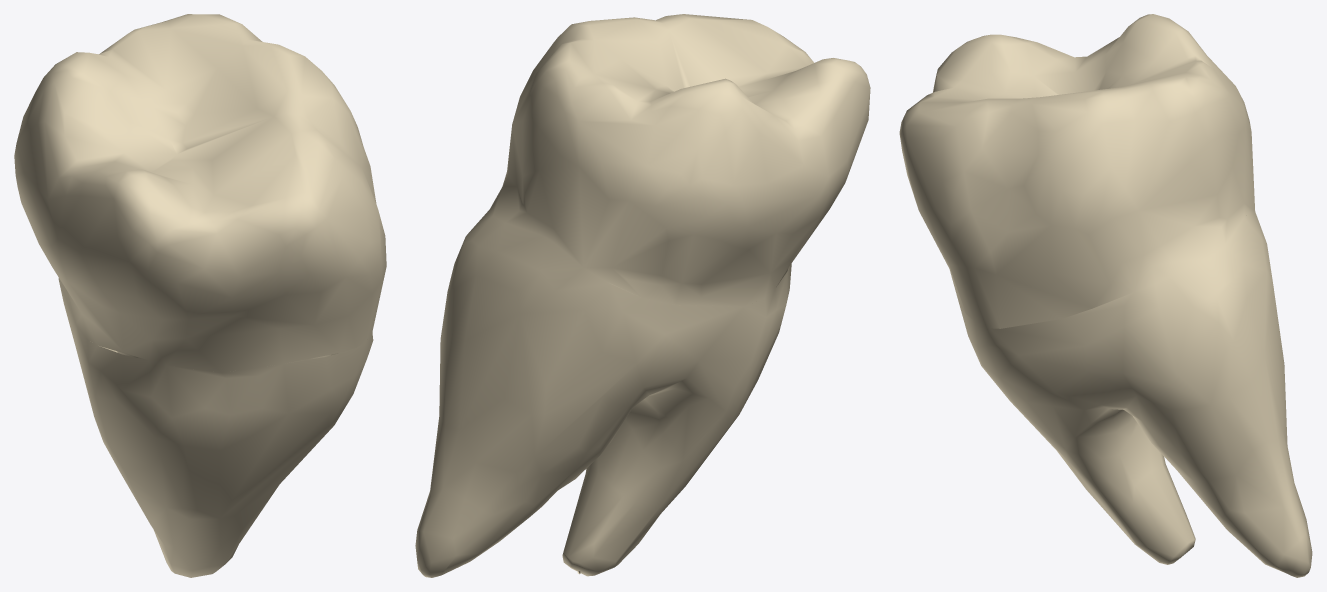
The model's file is esqueleto-lower-first-molar-tooth-l.glb.
3 views of the same model, side by side, from view 1: azimuth 30°, elevation 25°; view 2: azimuth 150°, elevation 25°; view 3: azimuth 270°, elevation 25° (orthographic). The views are drawn at different scales.
Parts seen in each view (by area): view 1: Lower first molar tooth.l; view 2: Lower first molar tooth.l; view 3: Lower first molar tooth.l.
Boxes of the visible parts, box(x1,y1,x2,y2) form: Lower first molar tooth.l: box(14, 14, 386, 577); Lower first molar tooth.l: box(415, 14, 870, 577); Lower first molar tooth.l: box(899, 14, 1312, 577).
Size of the model in its own units: 0.012 by 0.0192 by 0.0148.
